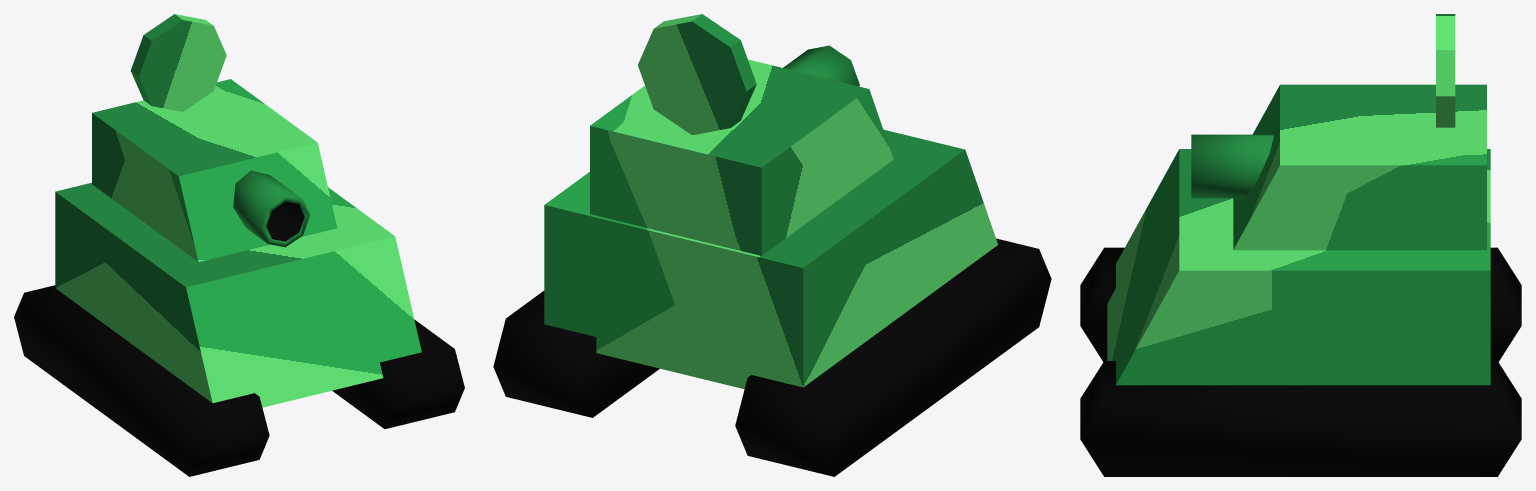
The model's file is tank.fbx.
3 views of the same model, side by side, from view 1: azimuth 30°, elevation 25°; view 2: azimuth 150°, elevation 25°; view 3: azimuth 270°, elevation 25° (orthographic). The views are drawn at different scales.
Parts seen in each view (by area): view 1: Cube; view 2: Cube; view 3: Cube.
Part boxes in pixels (<box>): Cube: <box>14,14,464,476</box>; Cube: <box>493,14,1051,476</box>; Cube: <box>1080,14,1521,476</box>.
Size of the model in its own units: 7.62 by 8.84 by 9.21.
1 material, 1 textured.
